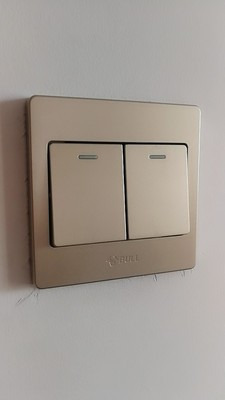switch: (41, 131, 132, 253), (116, 135, 194, 243)
